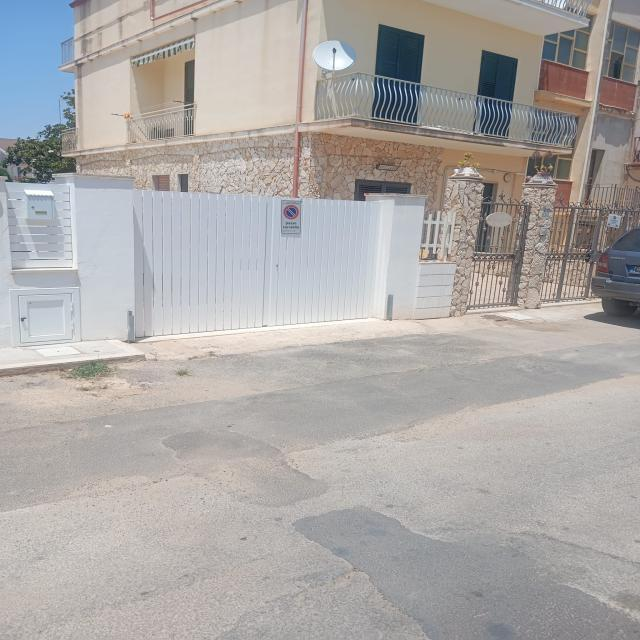forb_stopping: (284, 205, 300, 219)
